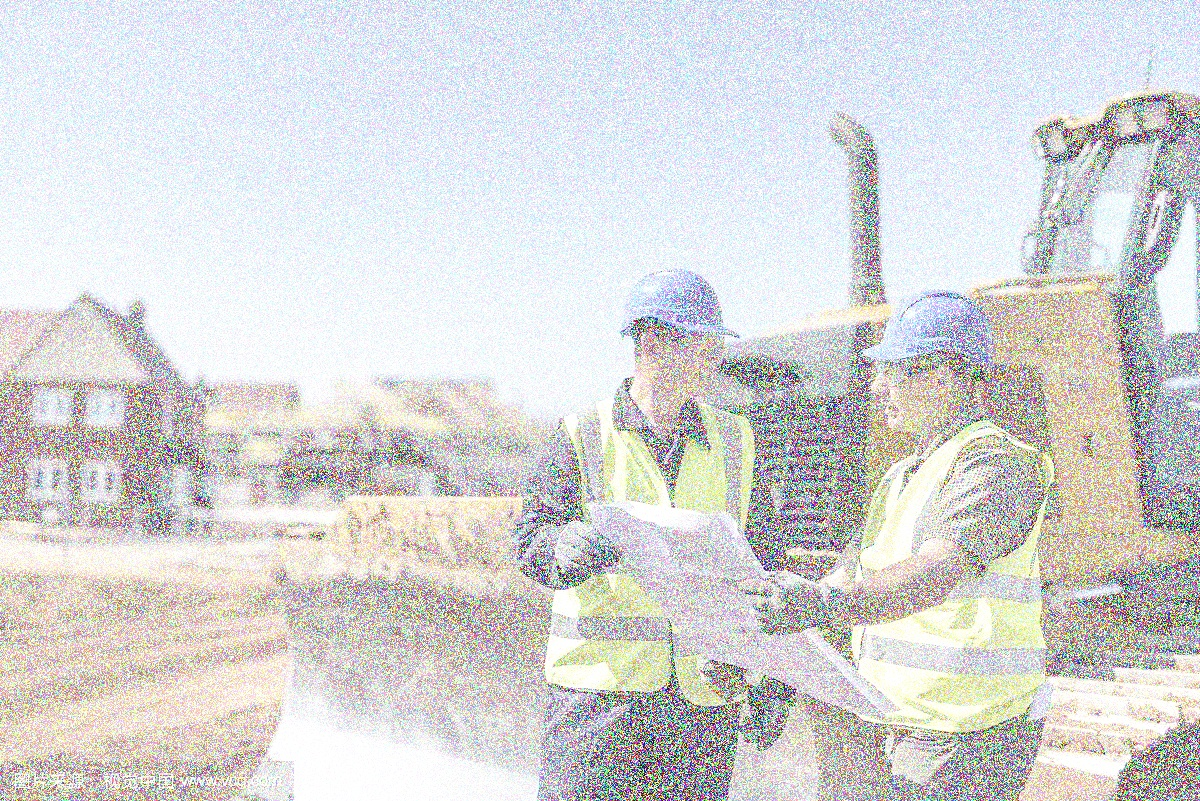helmet: (864, 287, 996, 432), (618, 266, 749, 402)
vest: (506, 396, 793, 687), (826, 420, 1061, 739)
